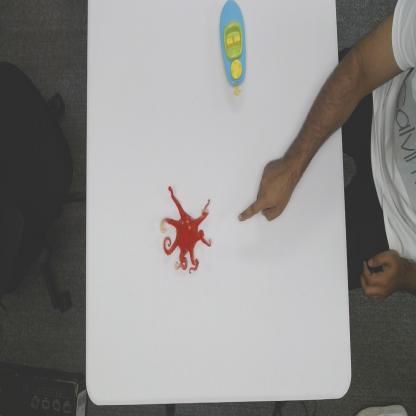Arm: (294, 52, 352, 185)
Boat: (218, 0, 248, 97)
Hand: (238, 156, 295, 224)
Octopus: (159, 183, 212, 275)
